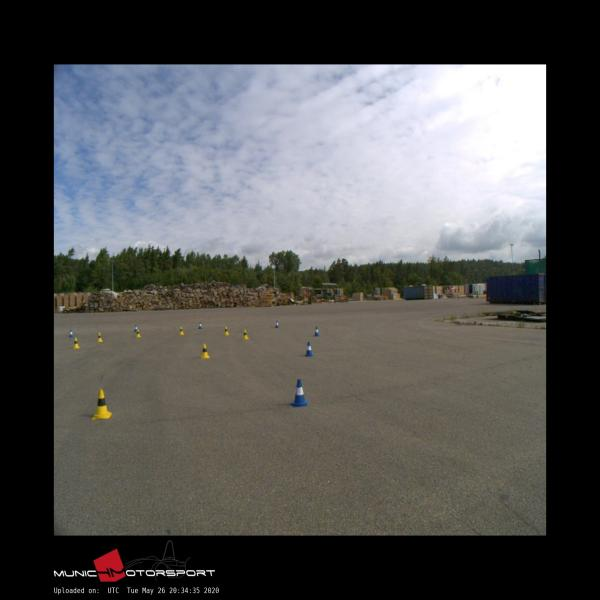blue_cone: (290, 378, 308, 406), (305, 342, 313, 356), (313, 326, 319, 336), (69, 329, 73, 338), (275, 320, 279, 328), (134, 325, 138, 332), (198, 322, 202, 329)
yellow_cone: (92, 388, 112, 419), (200, 343, 209, 358), (73, 338, 79, 349), (242, 330, 248, 338), (97, 332, 102, 341), (179, 326, 184, 335), (224, 326, 229, 335), (136, 329, 141, 337)
